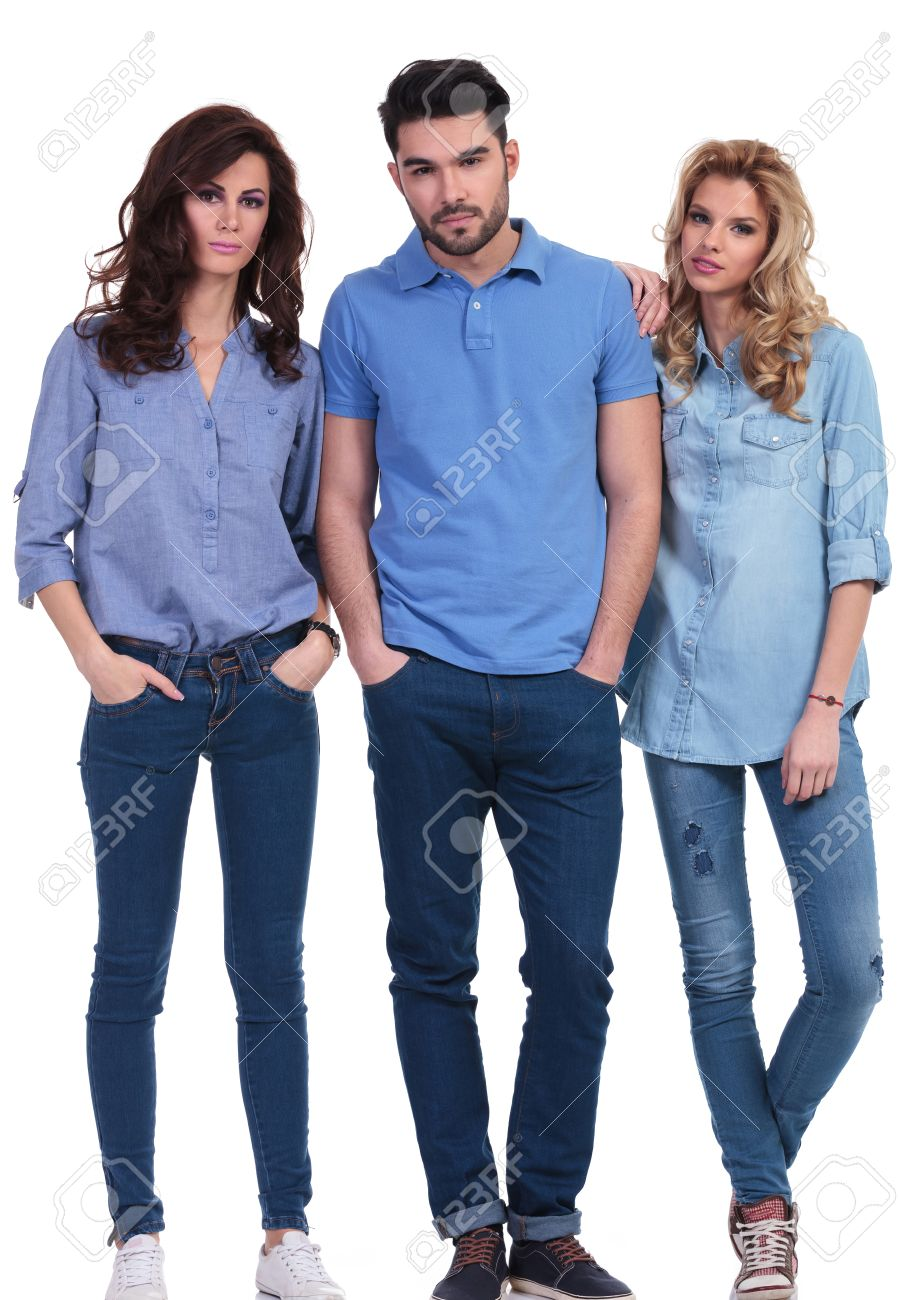person: (334, 44, 667, 546), (636, 117, 878, 703), (65, 103, 322, 557)
